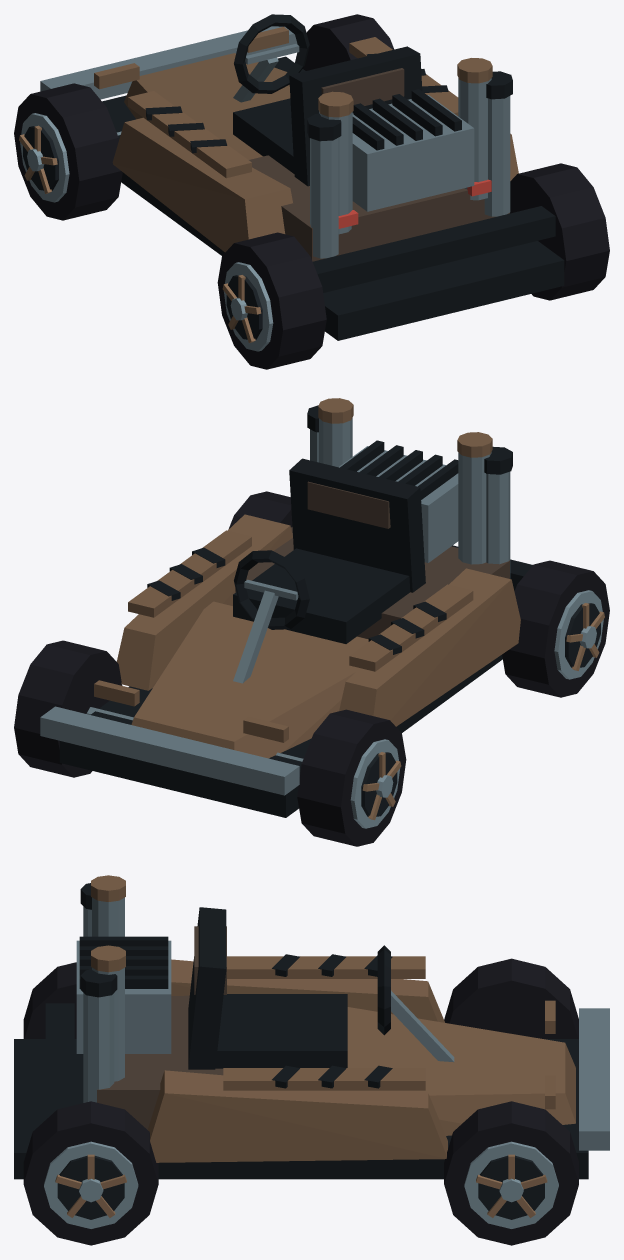
Rendered from kart.glb.
3 renders of one model, top to bottom at view 1: azimuth 30°, elevation 25°; view 2: azimuth 150°, elevation 25°; view 3: azimuth 270°, elevation 25°, orthographic. The views are drawn at different scales.
Visible parts, largest first — view 1: chassis, wheel-rear-left, wheel-front-left, wheel-rear-right, wheel-front-right; view 2: chassis, wheel-front-left, wheel-rear-left, wheel-front-right, wheel-rear-right; view 3: chassis, wheel-front-right, wheel-rear-right, wheel-front-left, wheel-rear-left.
Boxes of the visible parts, x1,y1,x2,y2 form: chassis: (40, 14, 564, 340); wheel-rear-left: (217, 232, 326, 369); wheel-front-left: (14, 83, 122, 220); wheel-rear-right: (510, 163, 609, 300); wheel-front-right: (303, 14, 394, 70); chassis: (40, 398, 532, 817); wheel-front-left: (297, 709, 406, 846); wheel-rear-left: (502, 560, 609, 697); wheel-front-right: (14, 640, 122, 777); wheel-rear-right: (228, 491, 292, 529); chassis: (14, 875, 609, 1179); wheel-front-right: (444, 1101, 578, 1245); wheel-rear-right: (23, 1101, 158, 1245); wheel-front-left: (444, 958, 578, 1038); wheel-rear-left: (23, 962, 76, 1038).
Bounding box in the file's own units: 2.19 × 1.4 × 3.09.
